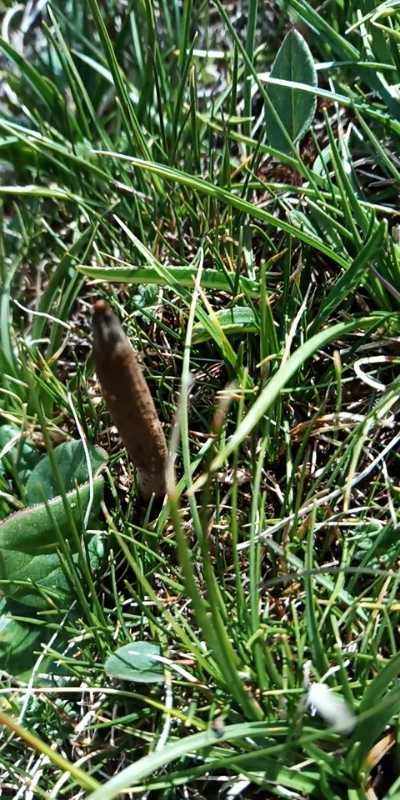Chongcao: (90, 301, 174, 504)
